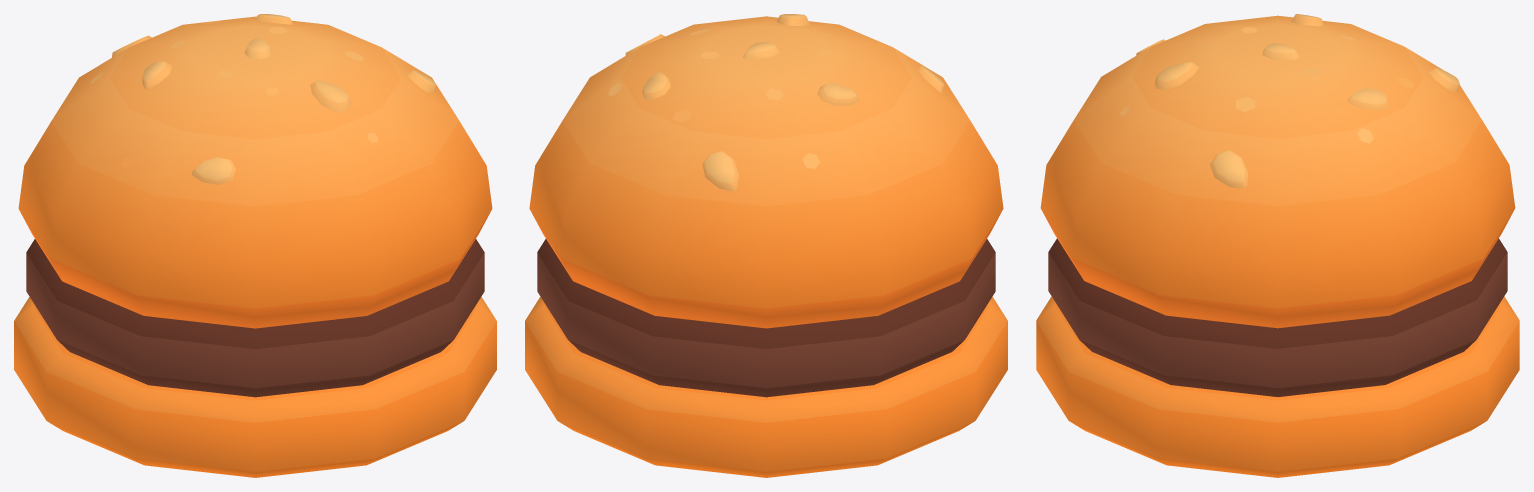
Rendered from hamburger.glb.
3 views of the same model, side by side, from view 1: azimuth 30°, elevation 25°; view 2: azimuth 150°, elevation 25°; view 3: azimuth 270°, elevation 25° (orthographic).
Visible parts, largest first — view 1: F_Europe_Burger_Hamburger_LOD0_streetFood_0; view 2: F_Europe_Burger_Hamburger_LOD0_streetFood_0; view 3: F_Europe_Burger_Hamburger_LOD0_streetFood_0.
Part boxes in pixels (x1,y1,x2,y2): F_Europe_Burger_Hamburger_LOD0_streetFood_0: (14,14,496,477); F_Europe_Burger_Hamburger_LOD0_streetFood_0: (525,14,1007,477); F_Europe_Burger_Hamburger_LOD0_streetFood_0: (1036,14,1519,477).
Size of the model in its own units: 0.1764 by 0.1357 by 0.1764.
Materials: 1 (1 with a texture image).
